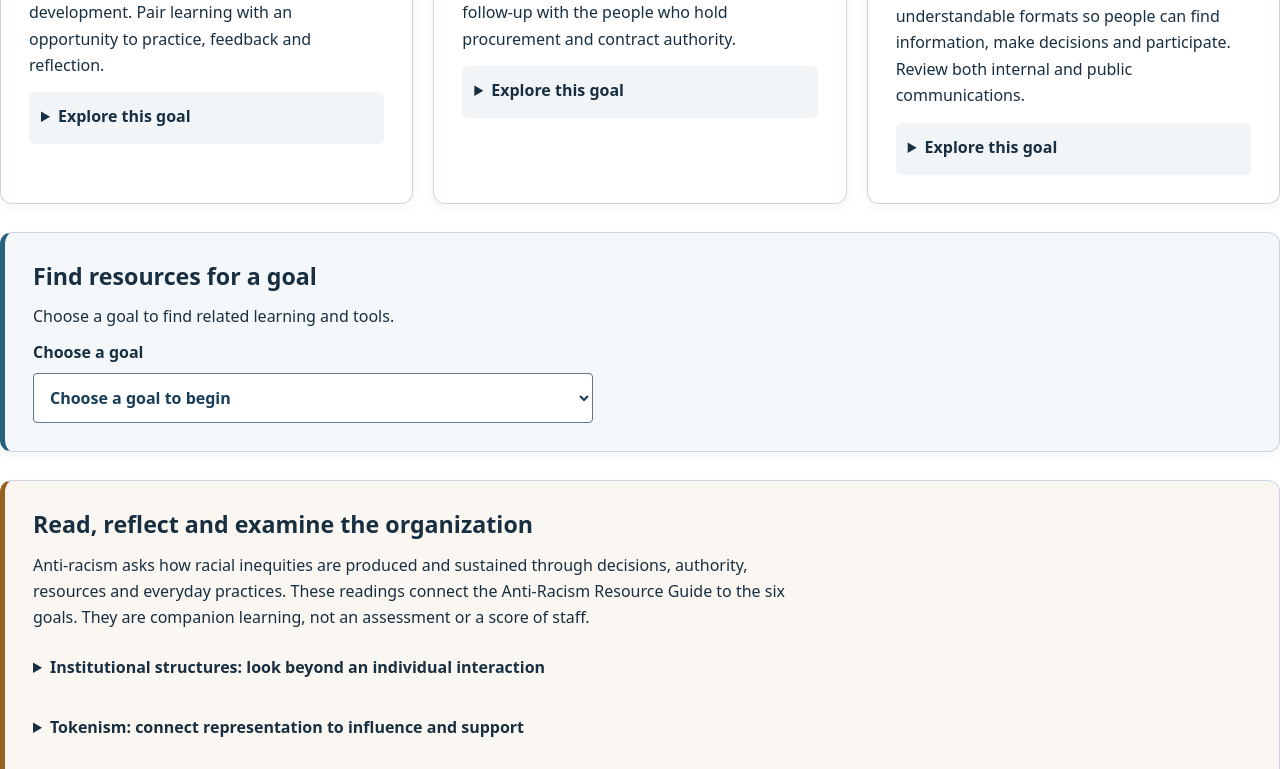
keeps all six goals visible while filtering only released resource connections
This screenshot has width=1280, height=769.
(page scrolled)
Check: the link "Released canvas" is not shown
Select "Goal 1: Eliminate Disparities" in the dropdown at x=313, y=398, box [33,374,593,424]
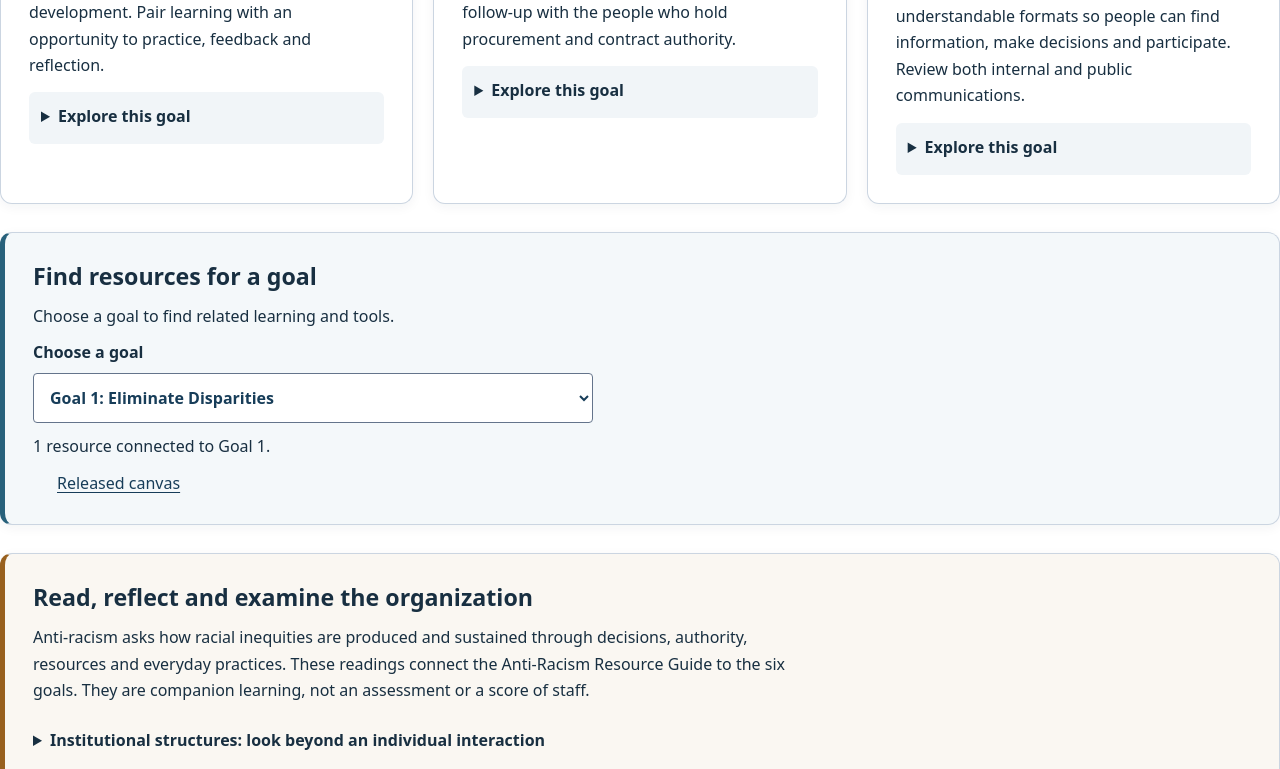
Select "Goal 6: Communication and Accessibility" in the dropdown at x=313, y=398, box [33,374,593,424]
(page scrolled)
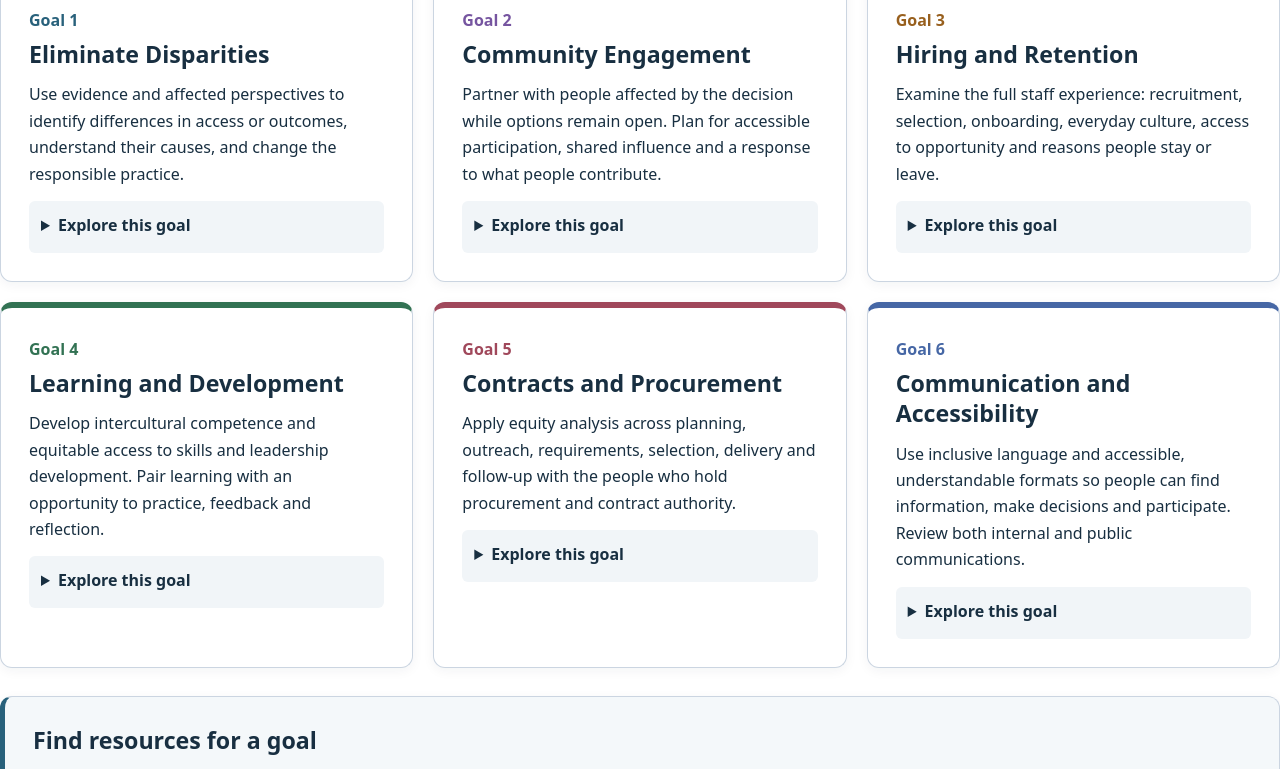
Check: the heading "Eliminate Disparities" is shown, box [29,38,269,70]
Check: the link "Released canvas" is gone
